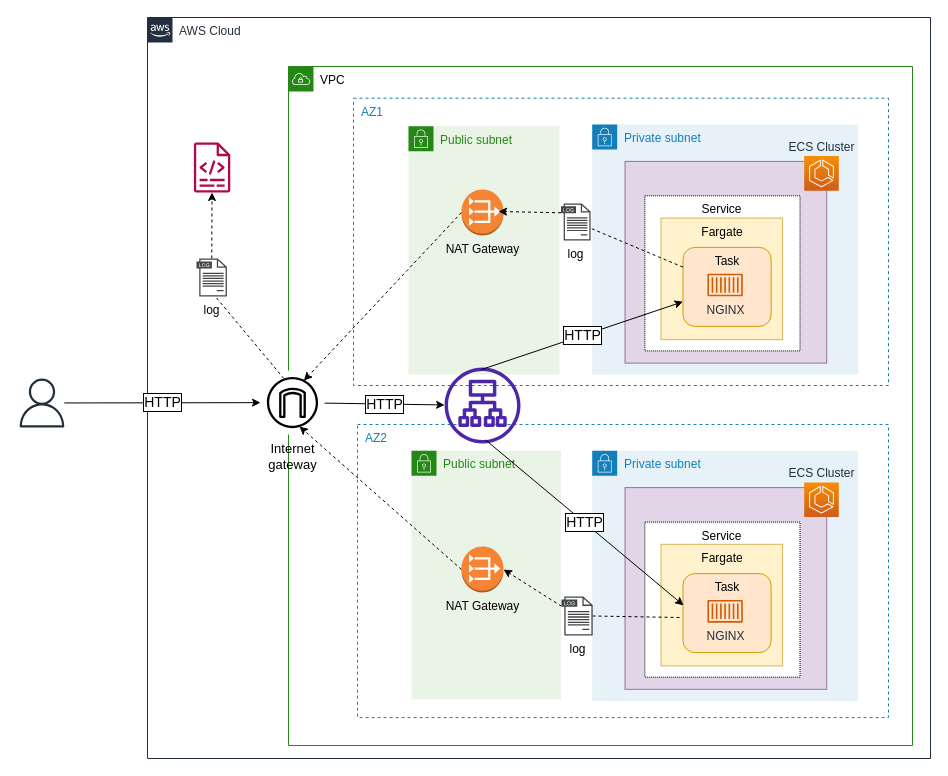
This 948x776 diagram has some shape labels left out. Each missing label, with the centre of its shape:
"ALB" belongs at pixel 482 405.
"CloudWatchLogs" belongs at pixel 211 167.
"User" belongs at pixel 41 402.
